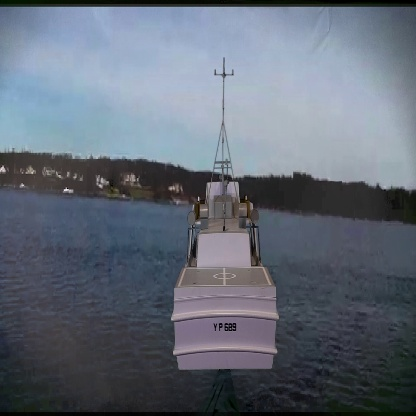YP689: (169, 58, 282, 372)
